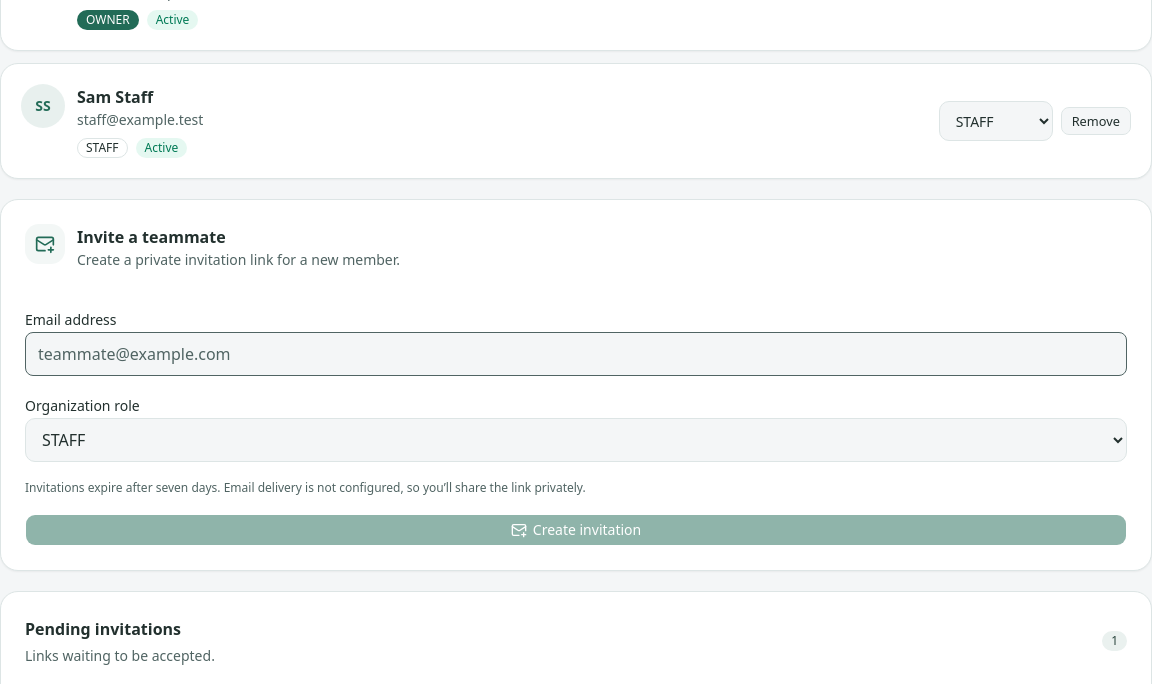
creates an invitation and exposes a copyable, private link
(page scrolled)
Step 1. Type "teammate@example.test" into the field labelled "Email address" → point(576, 354), box [25,332,1127,376]
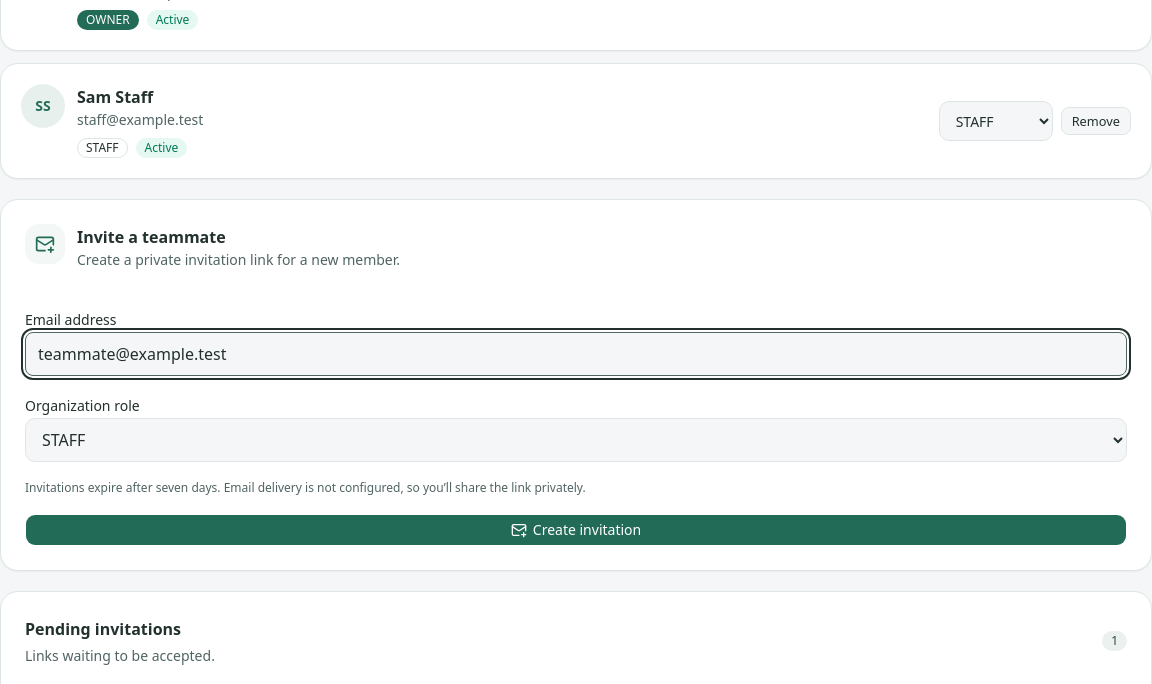
Step 2. Select "ADMIN" in the dropdown named "Invitation role" → point(576, 440), box [25,418,1127,462]
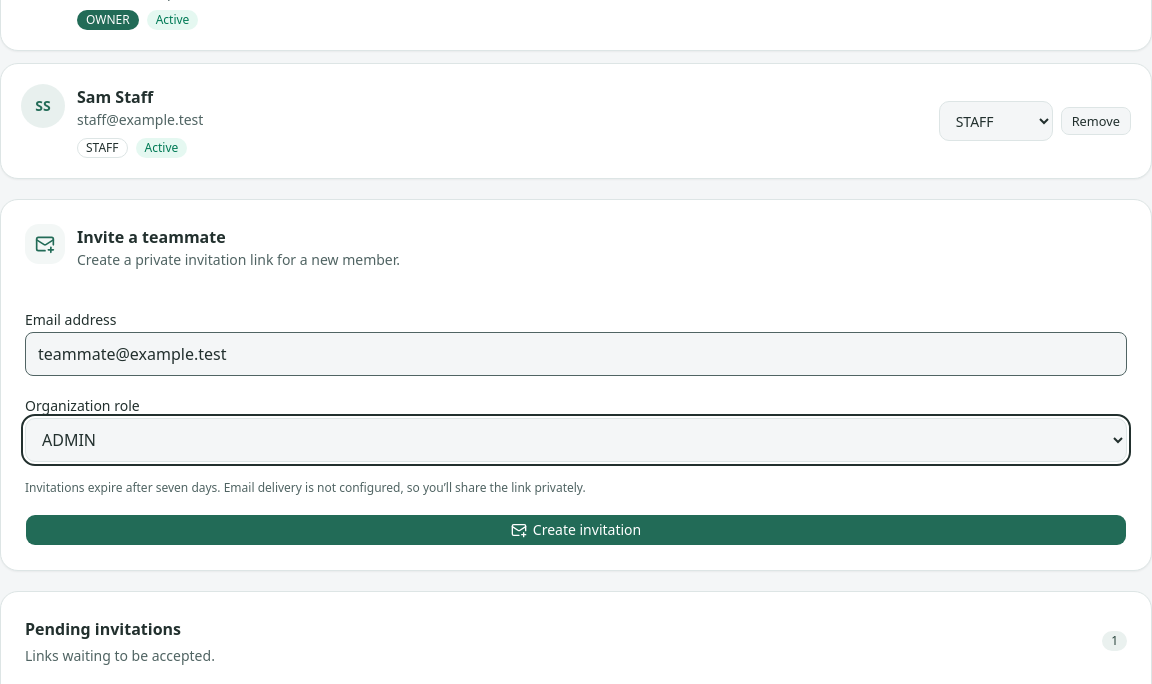
Step 3. Click the button "Create invitation" → point(576, 530), box [25,514,1127,546]
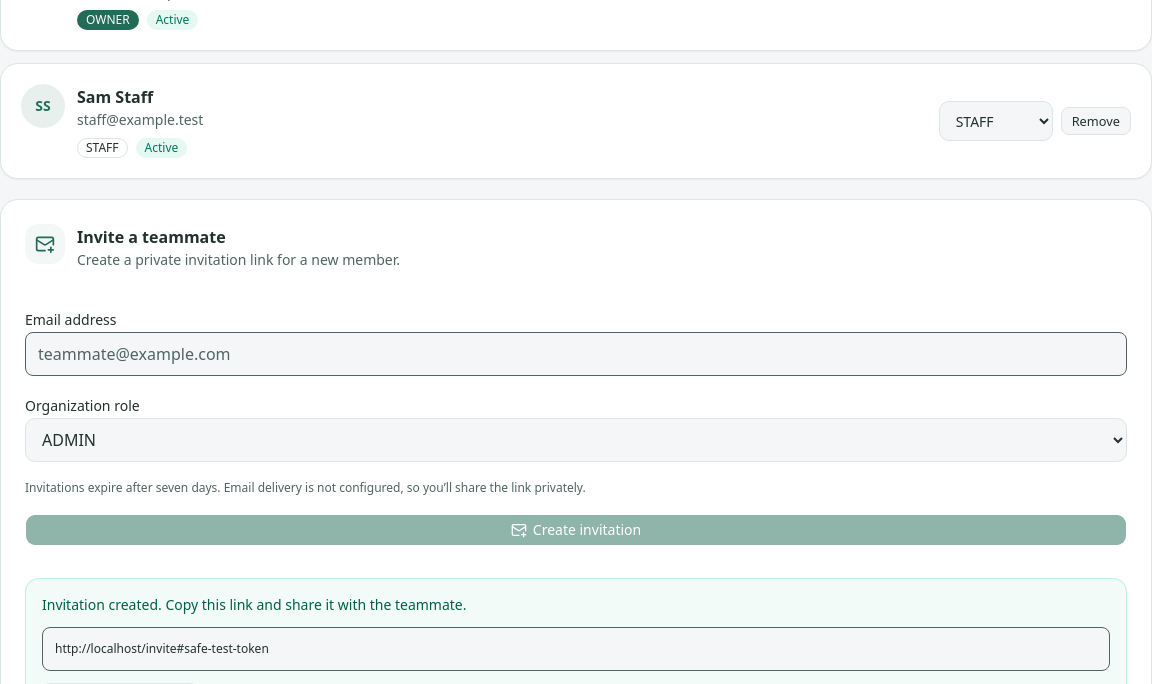
Expected: the message shows "Invitation created", [42,595,466,614]
